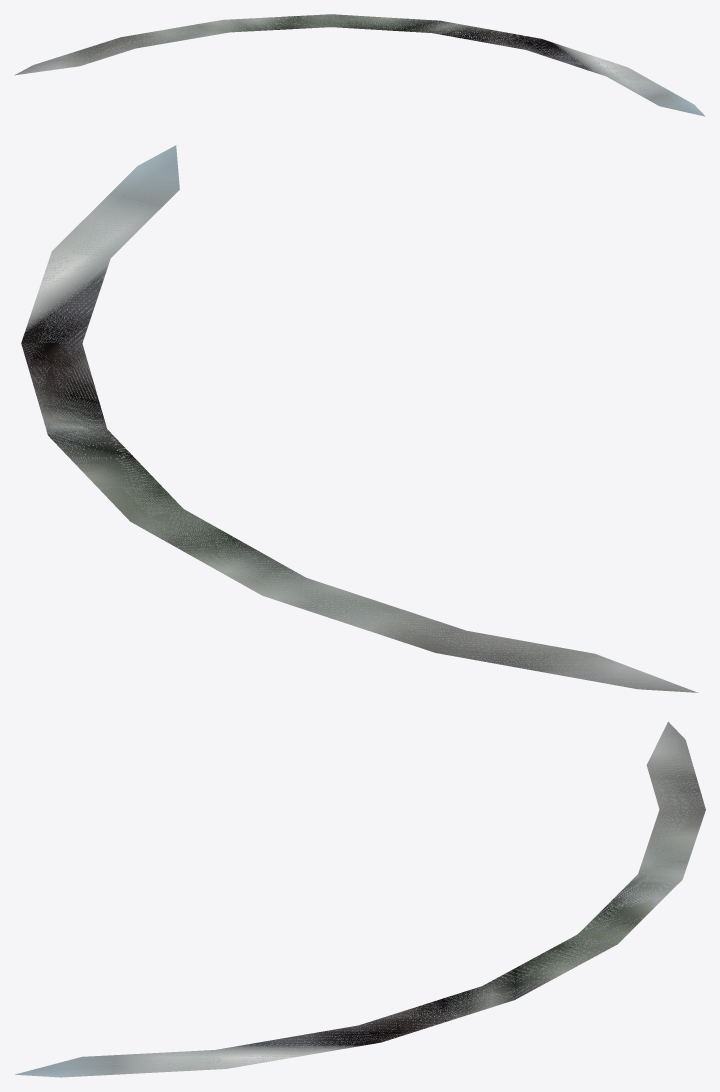
Rendered from 西庸城堡233.dae.
3 views of the same model, one above another, from view 1: azimuth 30°, elevation 25°; view 2: azimuth 150°, elevation 25°; view 3: azimuth 270°, elevation 25° (orthographic). The views are drawn at different scales.
Parts seen in each view (by area): view 1: SketchUp; view 2: SketchUp; view 3: SketchUp.
Boxes of the visible parts, x1,y1,x2,y2 form: SketchUp: [15, 14, 705, 116]; SketchUp: [21, 145, 698, 692]; SketchUp: [15, 721, 705, 1077].
Size of the model in its own units: 50.09 by 41.14 by 0.
